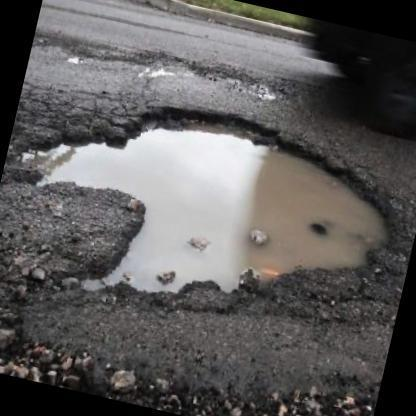pothole: (6, 103, 400, 301)
